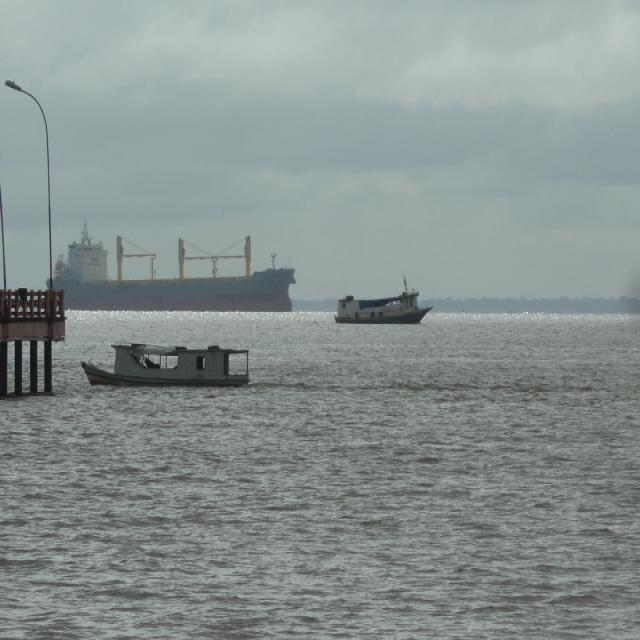cargoship: (42, 218, 302, 320)
fishing boat: (83, 324, 255, 390), (324, 283, 429, 334)
